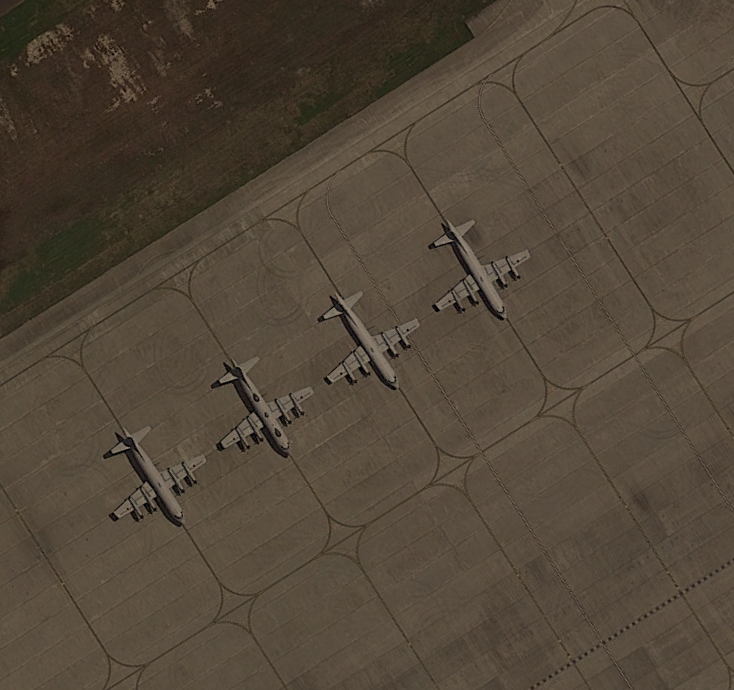A9: (426, 206, 535, 320), (316, 278, 422, 388), (212, 347, 318, 457), (101, 416, 207, 526)
